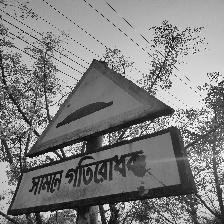Speed-breaker: (10, 59, 193, 215)
